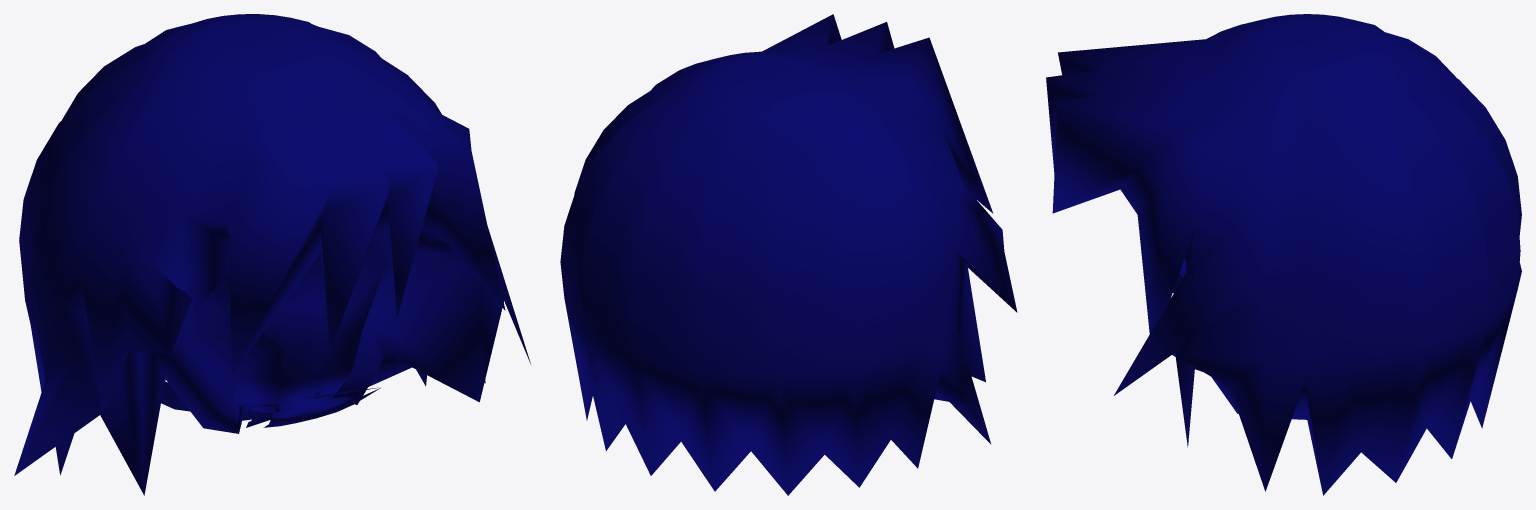
3 renders of one model, left to right at view 1: azimuth 30°, elevation 25°; view 2: azimuth 150°, elevation 25°; view 3: azimuth 270°, elevation 25°, orthographic. The views are drawn at different scales.
Visible parts, largest first — view 1: male_hair1; view 2: male_hair1; view 3: male_hair1.
Boxes of the visible parts, left/top/right/bottom form: male_hair1: left=14, top=14, right=530, bottom=495; male_hair1: left=560, top=14, right=1017, bottom=495; male_hair1: left=1046, top=14, right=1521, bottom=495.
Bounding box in the file's own units: 0.2627 × 0.2174 × 0.2507.
Materials: 1 (1 with a texture image).
